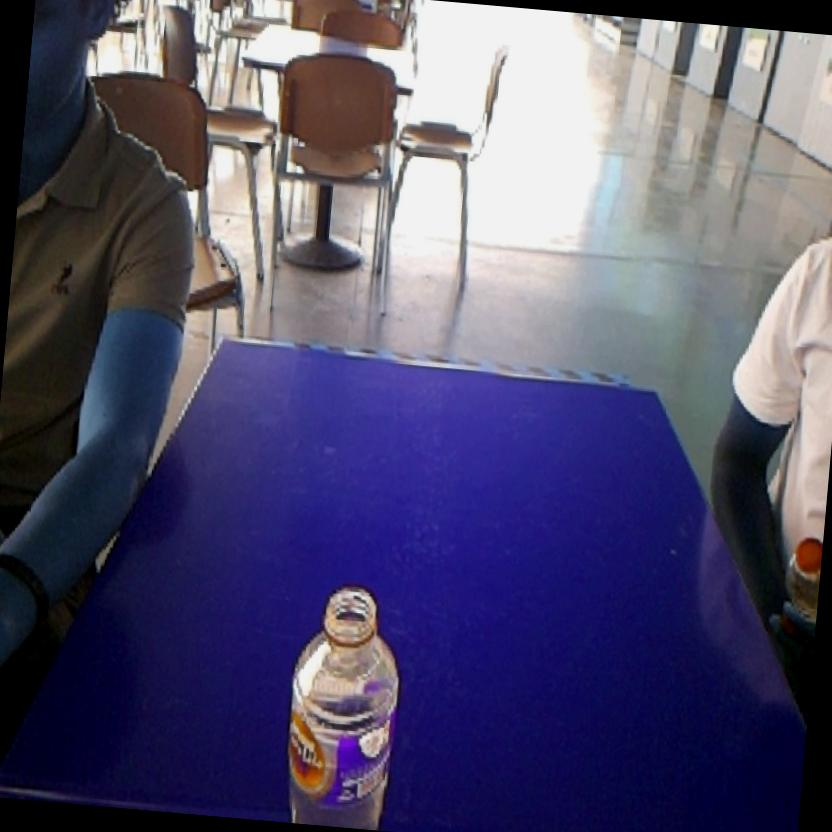no_cap: (265, 566, 417, 830)
